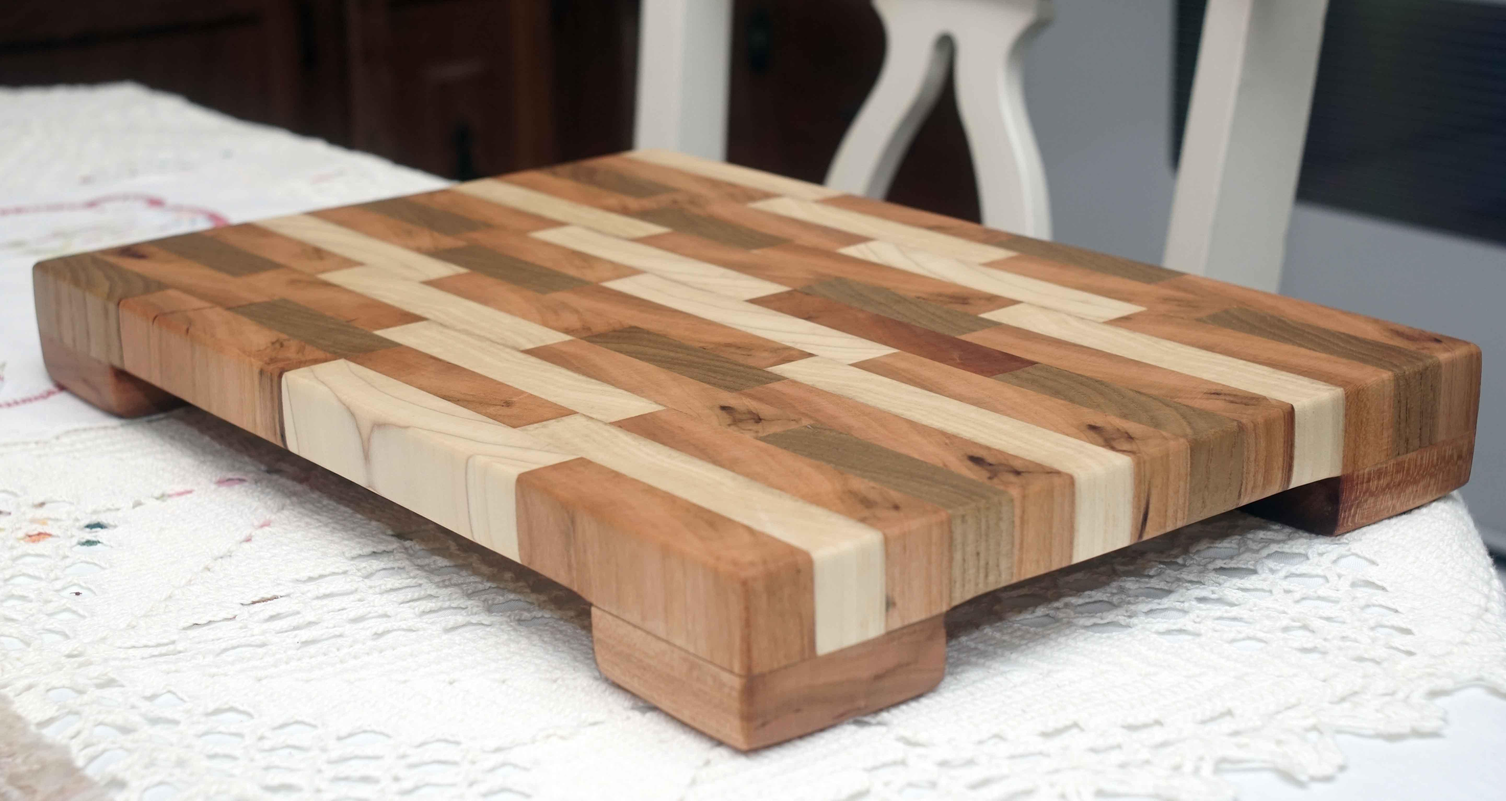gloved_hand: (19, 141, 1487, 758)
